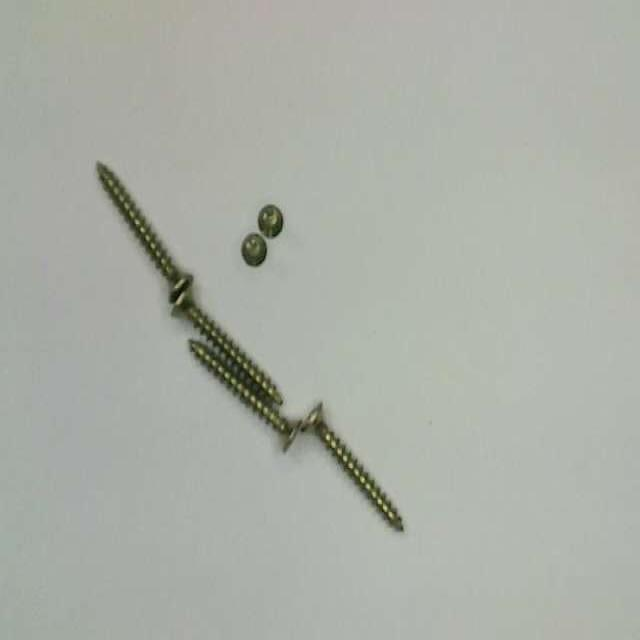Parafuso: (171, 282, 283, 406), (301, 400, 404, 532), (188, 338, 303, 454), (98, 161, 193, 301), (258, 204, 283, 237), (241, 233, 266, 265)
